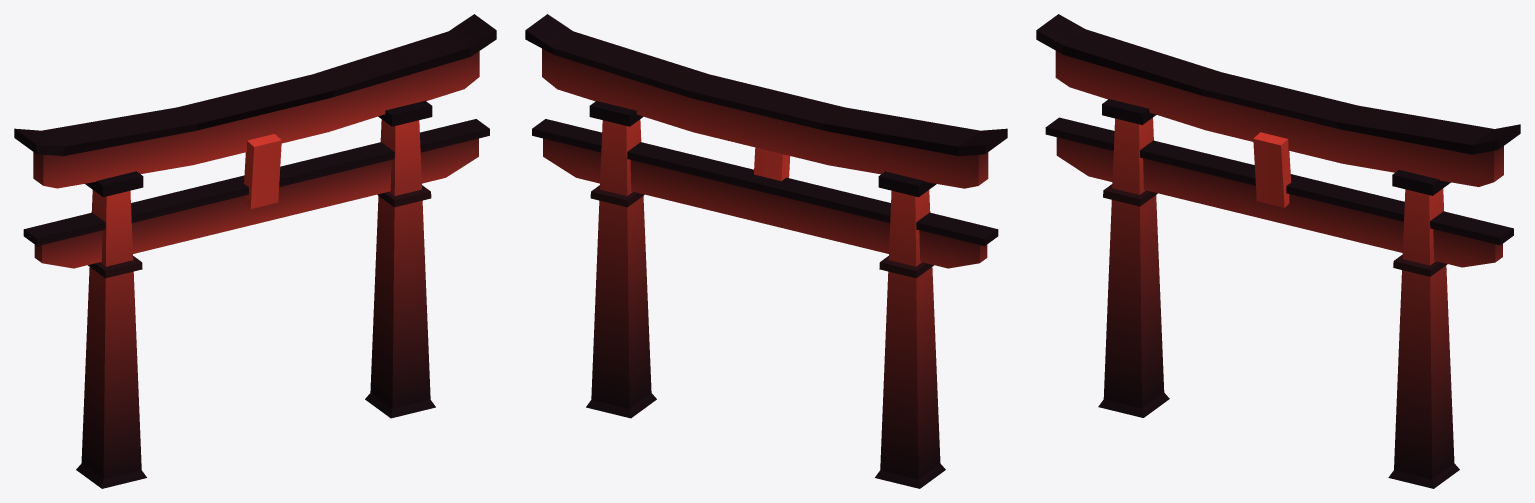
Rendered from Raven_Gate.fbx.
The picture shows the model from 3 angles, left to right: view 1: azimuth 30°, elevation 25°; view 2: azimuth 150°, elevation 25°; view 3: azimuth 330°, elevation 25°; orthographic projection.
Parts seen in each view (by area): view 1: legs, top, bottom, little; view 2: legs, top, bottom, little; view 3: legs, top, bottom, little.
Part boxes in pixels (bbox=[...]): legs: bbox=[76, 100, 435, 488]; top: bbox=[14, 14, 496, 188]; bottom: bbox=[23, 119, 489, 268]; little: bbox=[244, 134, 281, 209]; legs: bbox=[586, 101, 945, 488]; top: bbox=[525, 14, 1007, 188]; bottom: bbox=[532, 119, 998, 268]; little: bbox=[754, 147, 790, 181]; legs: bbox=[1098, 99, 1459, 488]; top: bbox=[1036, 14, 1520, 186]; bottom: bbox=[1045, 117, 1513, 267]; little: bbox=[1253, 132, 1291, 207].
Bounding box in the file's own units: 1478 × 1107 × 146.
1 material, 1 textured.
